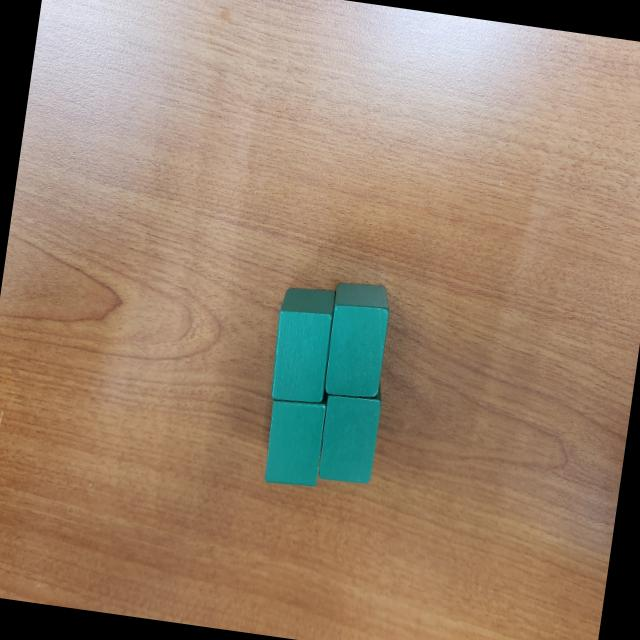green: (265, 282, 341, 404), (320, 281, 393, 405), (313, 389, 386, 488), (258, 395, 329, 492)
